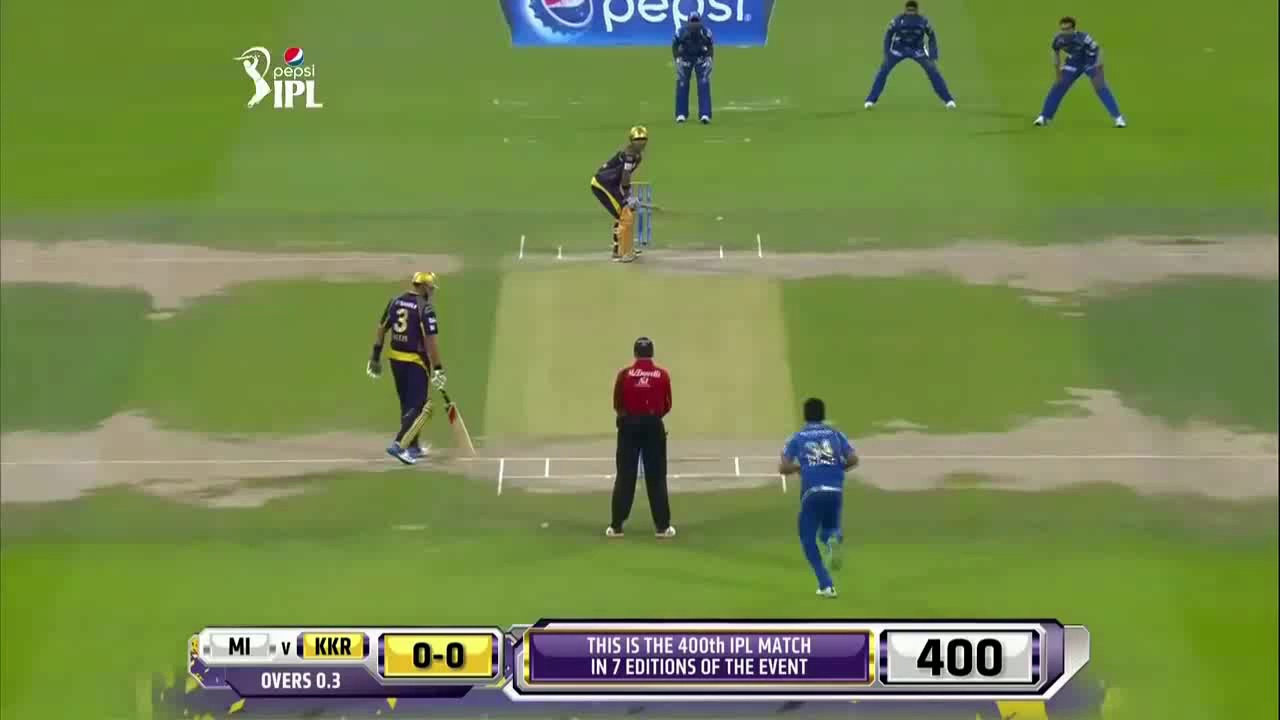bat: (441, 392, 479, 457)
